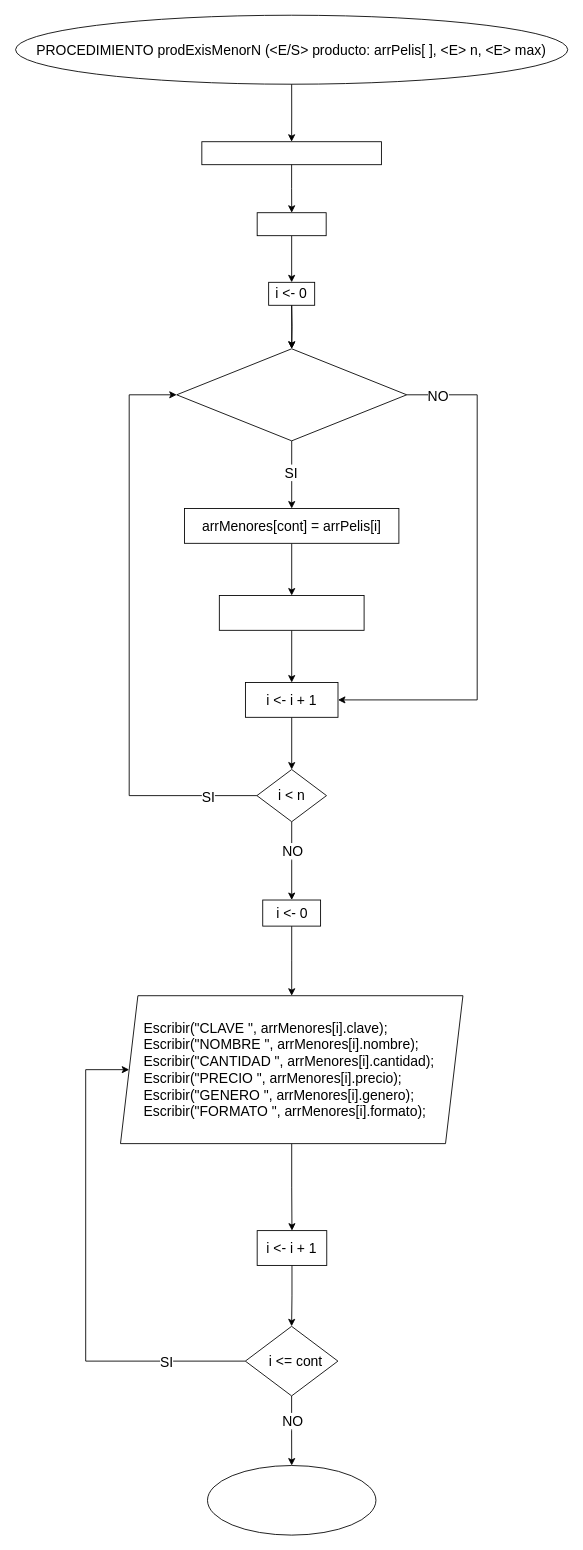
This 583x1550 diagram has some shape labels left out. The shapes that lost their labels are listed below. From the top down, each one's centre as x and y in pixels, then its label:
At (291,153): "producto: arrMenores[49 ]".
At (291,224): "cont <- 0".
At (291,394): "arrPelis[i].cantidad < max".
At (291,612): "cont <- cont + 1".
At (291,1500): "FIN_prodExisMenorN".
